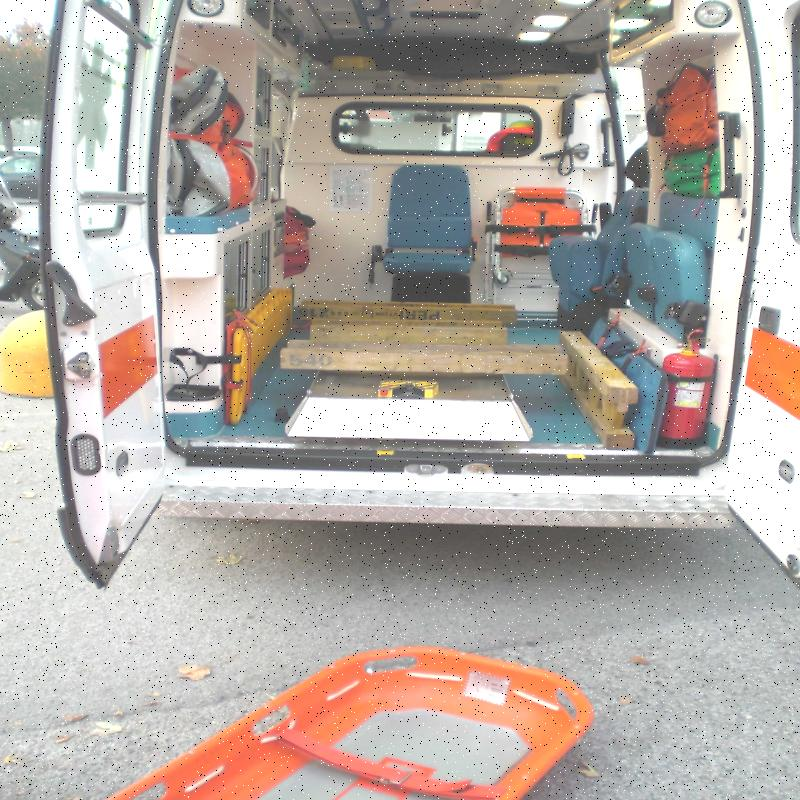ambulance: (23, 0, 799, 616)
